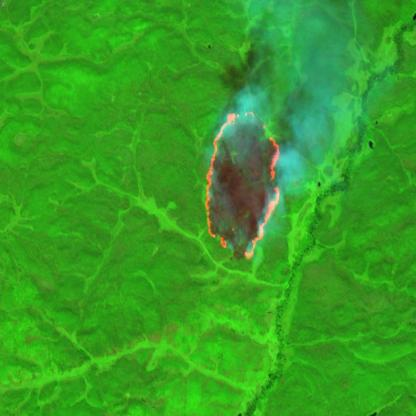fire: (203, 105, 282, 267)
